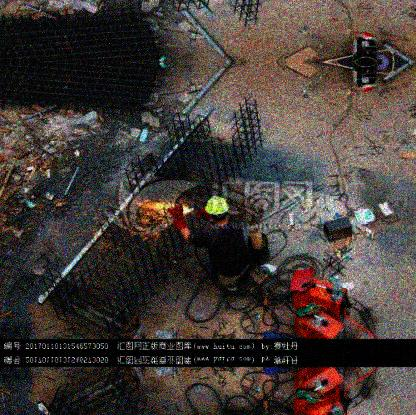helmet: (205, 196, 231, 227)
